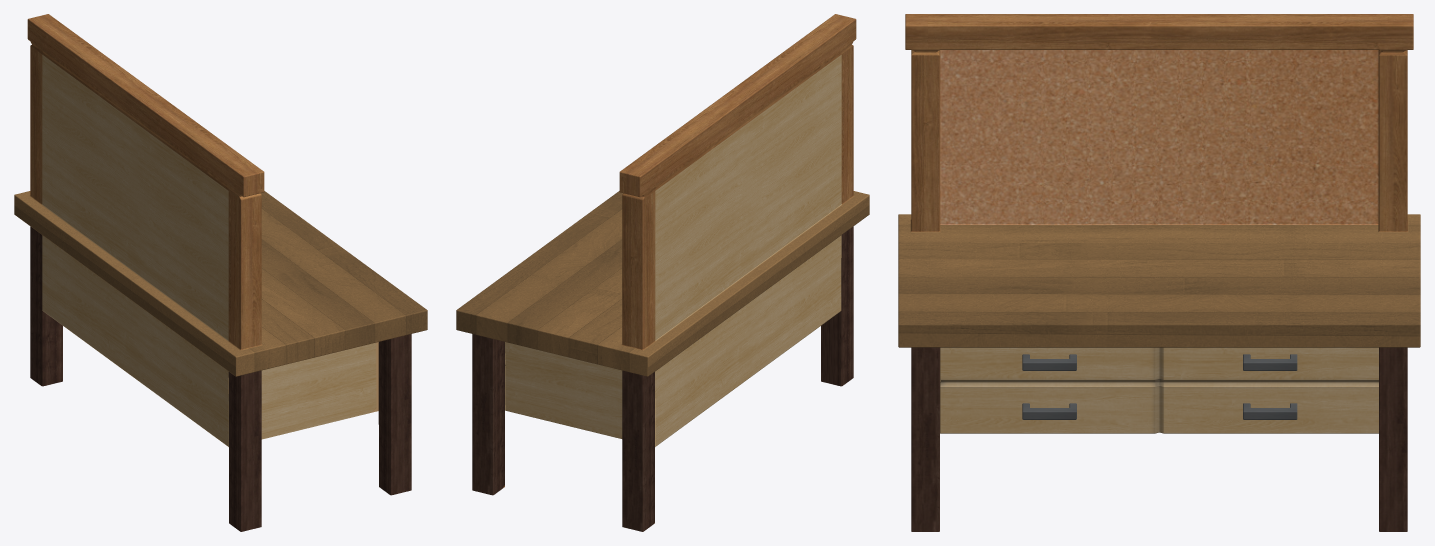
The model's file is Workbench.fbx.
3 renders of one model, left to right at view 1: azimuth 30°, elevation 25°; view 2: azimuth 150°, elevation 25°; view 3: azimuth 270°, elevation 25°, orthographic. The views are drawn at different scales.
Parts seen in each view (by area): view 1: Workbench; view 2: Workbench; view 3: Workbench.
Part boxes in pixels (x1=…): Workbench: x1=14, y1=14, x2=427, y2=531; Workbench: x1=456, y1=14, x2=869, y2=531; Workbench: x1=898, y1=14, x2=1420, y2=531.
Bounding box in the file's own units: 100 × 178 × 200.
